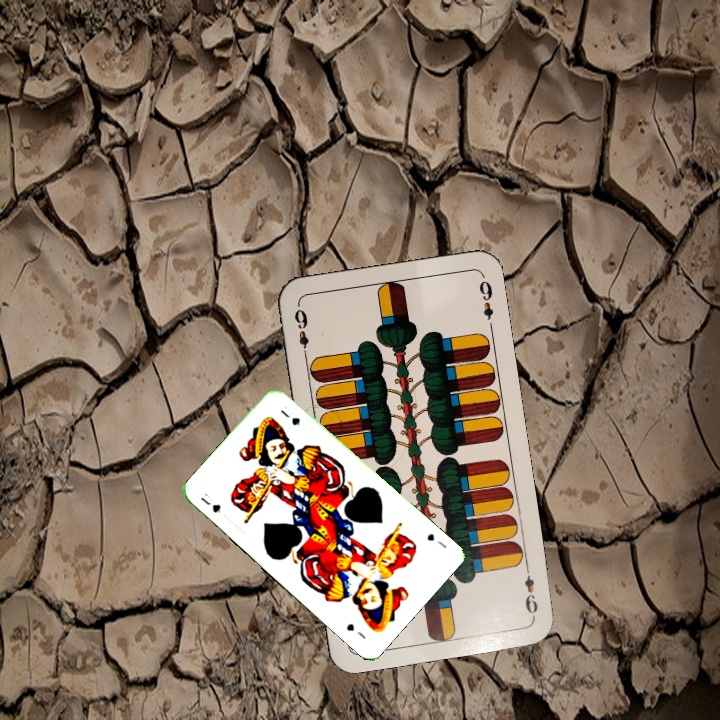E9: (520, 561, 541, 620), (290, 305, 312, 361)
GU: (196, 493, 223, 516), (423, 529, 449, 551)
